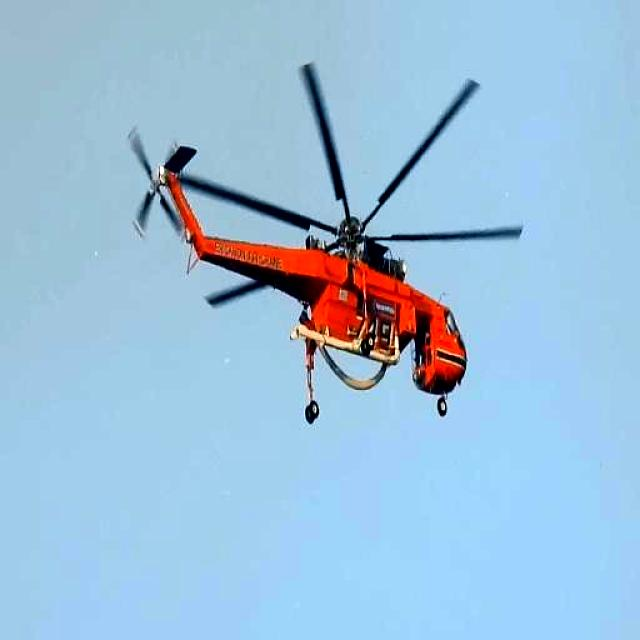drone: (118, 51, 529, 429)
